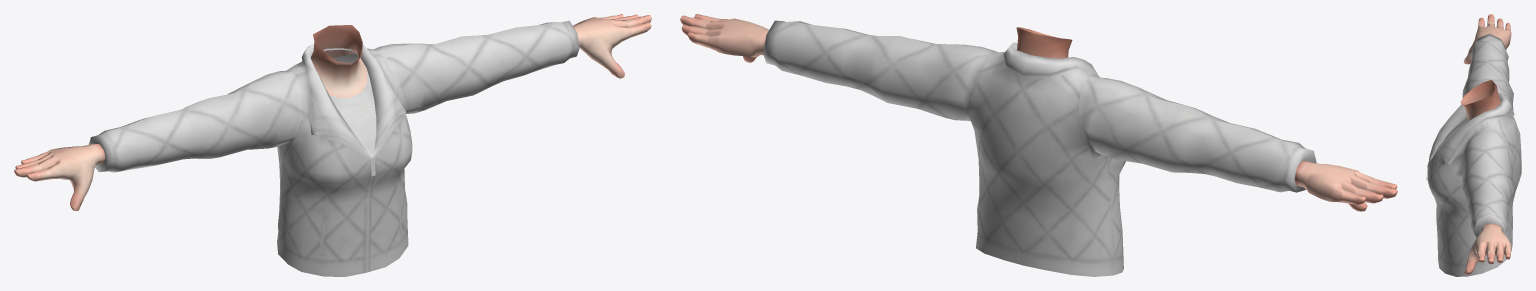
File: tr0850_00_upb03.gltf
3 views of the same model, side by side, from view 1: azimuth 30°, elevation 25°; view 2: azimuth 150°, elevation 25°; view 3: azimuth 270°, elevation 25° (orthographic). The views are drawn at different scales.
Visible parts, largest first — view 1: upb03_upperbody_mesh_shape:upperbody03, upb03_upperskin_mesh_shape:upperbody03_skin; view 2: upb03_upperbody_mesh_shape:upperbody03, upb03_upperskin_mesh_shape:upperbody03_skin; view 3: upb03_upperbody_mesh_shape:upperbody03, upb03_upperskin_mesh_shape:upperbody03_skin.
Boxes of the visible parts, x1,y1,x2,y2 form: upb03_upperbody_mesh_shape:upperbody03: (89,20,579,276); upb03_upperskin_mesh_shape:upperbody03_skin: (14,14,651,210); upb03_upperbody_mesh_shape:upperbody03: (763,20,1316,276); upb03_upperskin_mesh_shape:upperbody03_skin: (680,14,1397,211); upb03_upperbody_mesh_shape:upperbody03: (1426,34,1521,276); upb03_upperskin_mesh_shape:upperbody03_skin: (1460,14,1511,274).
Size of what is drawn, in the model's own units: 1.63 by 0.5392 by 0.2661.
2 materials, 2 textured.
